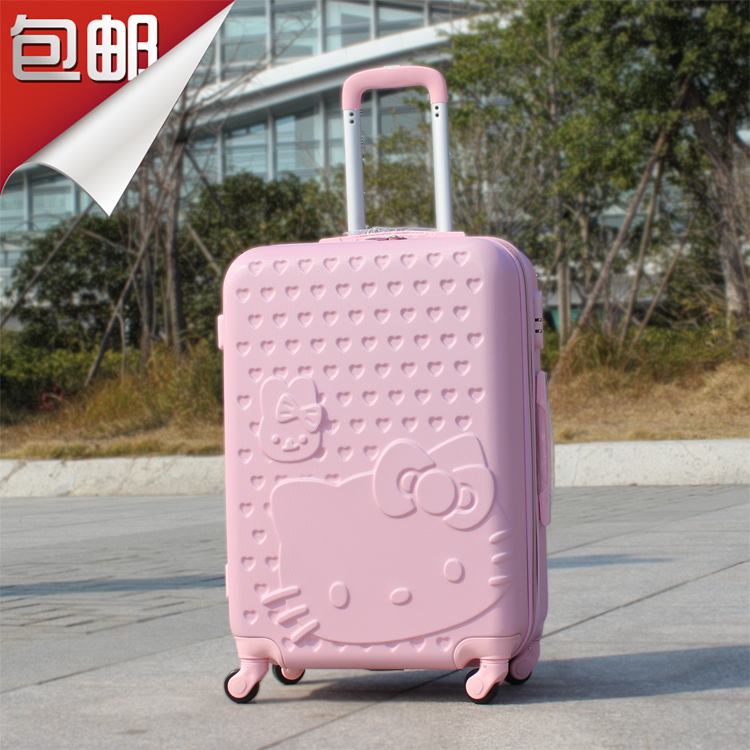luggage: (215, 65, 570, 702)
